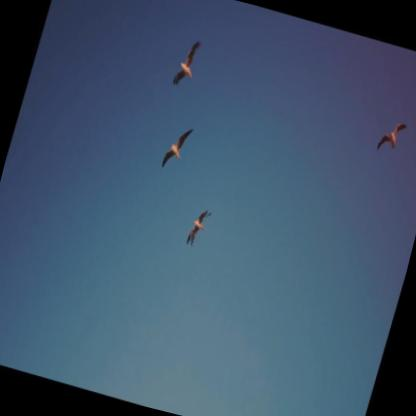bird: (170, 35, 206, 92), (160, 120, 196, 175), (375, 117, 409, 161), (184, 206, 216, 252)
